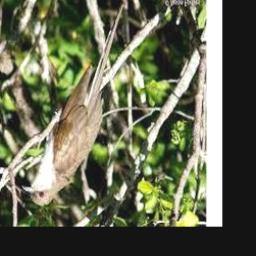Cuckoo: (21, 4, 123, 206)
